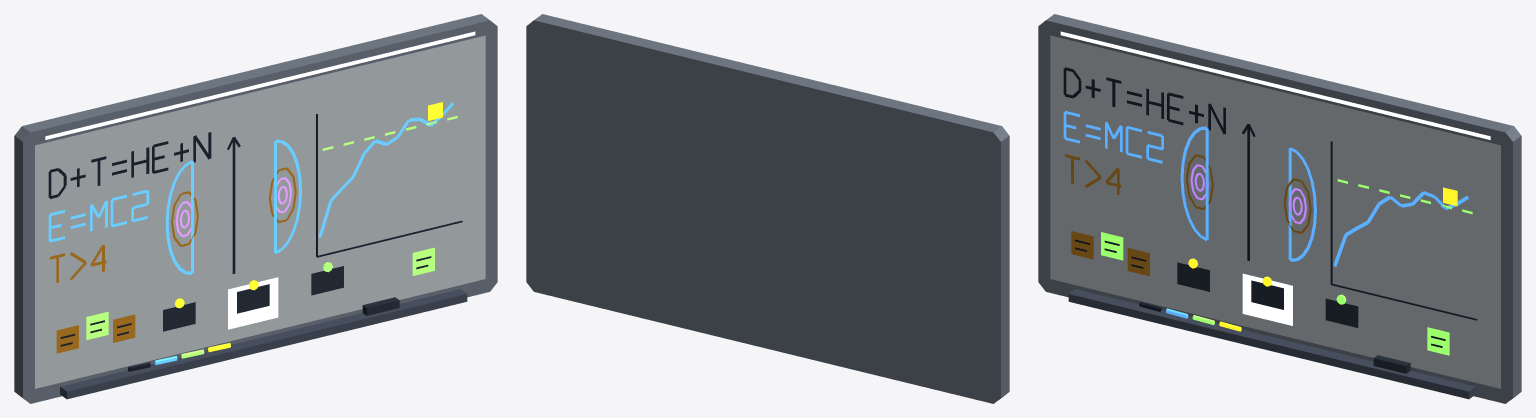
The model's file is fus_whiteboard_equations.glb.
The picture shows the model from 3 angles, left to right: view 1: azimuth 30°, elevation 25°; view 2: azimuth 150°, elevation 25°; view 3: azimuth 330°, elevation 25°; orthographic projection.
Visible parts, largest first — view 1: pinned_printout, board_frame, marker_tray, marker_pen.001, pinned_printout.001, marker_pen, board_eraser, marker_stroke.042, board_magnet.002, board_magnet, marker_stroke.072; view 2: board_frame; view 3: pinned_printout, board_frame, marker_tray, marker_pen.001, pinned_printout.001, marker_pen, board_eraser, marker_stroke.042, board_magnet.002, marker_stroke.072, board_magnet.
Part boxes in pixels (x1,y1,x2,y2): pinned_printout: [35, 35, 485, 388]; board_frame: [14, 14, 497, 403]; marker_tray: [60, 289, 467, 399]; marker_pen.001: [48, 102, 453, 365]; pinned_printout.001: [45, 31, 475, 329]; marker_pen: [48, 114, 462, 371]; board_eraser: [163, 266, 399, 331]; marker_stroke.042: [50, 167, 296, 353]; board_magnet.002: [86, 115, 457, 358]; board_magnet: [175, 102, 442, 351]; marker_stroke.072: [175, 177, 291, 237]; board_frame: [526, 14, 1009, 403]; pinned_printout: [1050, 35, 1500, 388]; board_frame: [1038, 14, 1521, 403]; marker_tray: [1068, 289, 1475, 399]; marker_pen.001: [1063, 110, 1468, 318]; pinned_printout.001: [1060, 31, 1490, 325]; marker_pen: [1063, 67, 1477, 347]; board_eraser: [1177, 262, 1410, 373]; marker_stroke.042: [1065, 154, 1311, 276]; board_magnet.002: [1101, 179, 1472, 355]; marker_stroke.072: [1190, 164, 1306, 224]; board_magnet: [1188, 187, 1457, 331].
Bounding box in the file's own units: 3.2 × 1.75 × 0.18.
